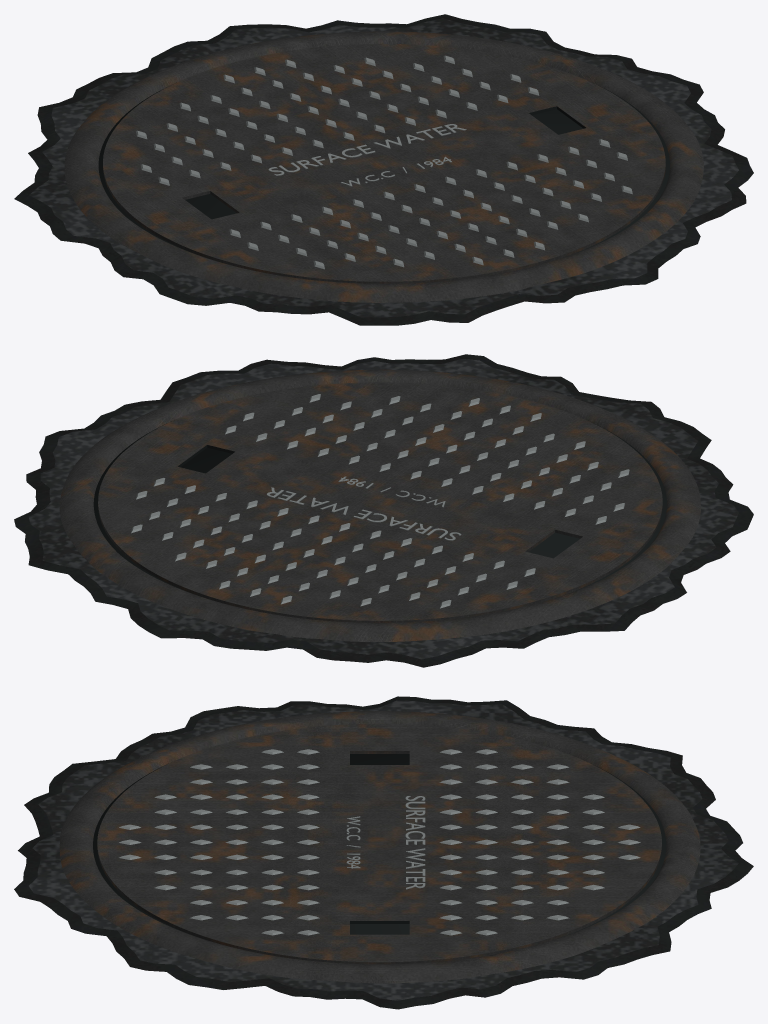
File: cast-iron-manhole.glb
3 renders of one model, top to bottom at view 1: azimuth 30°, elevation 25°; view 2: azimuth 150°, elevation 25°; view 3: azimuth 270°, elevation 25°, orthographic.
Visible parts, largest first — view 1: Removable cast iron lid, Bitumen manhole bedding, Chamfered cast iron frame, Worn cast anti-slip diamonds, Dark iron seating well, Original cast foundry lettering; view 2: Removable cast iron lid, Bitumen manhole bedding, Chamfered cast iron frame, Worn cast anti-slip diamonds, Dark iron seating well, Original cast foundry lettering; view 3: Removable cast iron lid, Bitumen manhole bedding, Chamfered cast iron frame, Worn cast anti-slip diamonds, Dark iron seating well, Original cast foundry lettering.
Boxes of the visible parts, x1=… form: Removable cast iron lid: x1=103, y1=44, x2=665, y2=283; Bitumen manhole bedding: x1=14, y1=14, x2=753, y2=325; Chamfered cast iron frame: x1=64, y1=31, x2=703, y2=302; Worn cast anti-slip diamonds: x1=136, y1=55, x2=632, y2=269; Dark iron seating well: x1=98, y1=82, x2=669, y2=257; Original cast foundry lettering: x1=268, y1=124, x2=466, y2=175; Removable cast iron lid: x1=98, y1=382, x2=662, y2=622; Bitumen manhole bedding: x1=14, y1=354, x2=753, y2=667; Chamfered cast iron frame: x1=59, y1=369, x2=700, y2=641; Worn cast anti-slip diamonds: x1=131, y1=394, x2=629, y2=608; Dark iron seating well: x1=93, y1=421, x2=666, y2=596; Original cast foundry lettering: x1=266, y1=487, x2=461, y2=540; Removable cast iron lid: x1=97, y1=723, x2=661, y2=964; Bitumen manhole bedding: x1=14, y1=696, x2=753, y2=1009; Chamfered cast iron frame: x1=59, y1=711, x2=700, y2=983; Worn cast anti-slip diamonds: x1=119, y1=749, x2=640, y2=935; Dark iron seating well: x1=93, y1=754, x2=666, y2=936; Original cast foundry lettering: x1=405, y1=796, x2=425, y2=889.
Bounding box in the file's own units: 1.02 × 0.0144 × 1.02.
5 materials, 3 textured.
